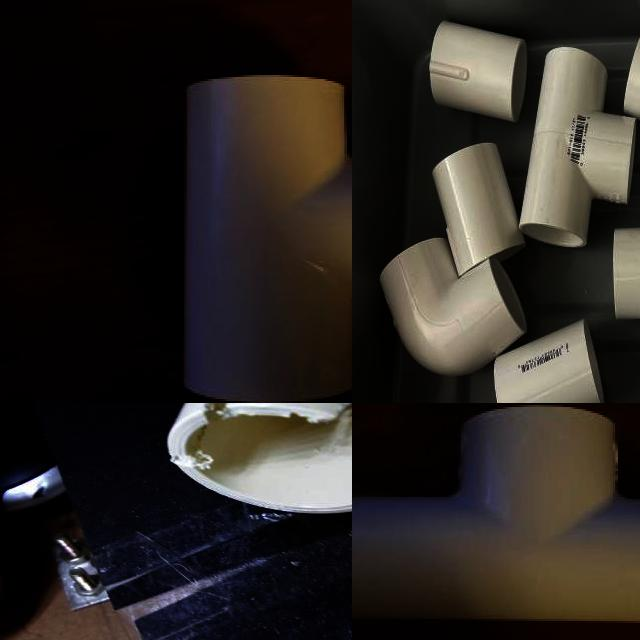Defective: (223, 403, 352, 426), (204, 403, 314, 429), (176, 403, 201, 423)
L Joint: (380, 238, 527, 376)
T Joint: (352, 406, 640, 626), (180, 75, 352, 403), (518, 48, 634, 250), (166, 403, 352, 517)
